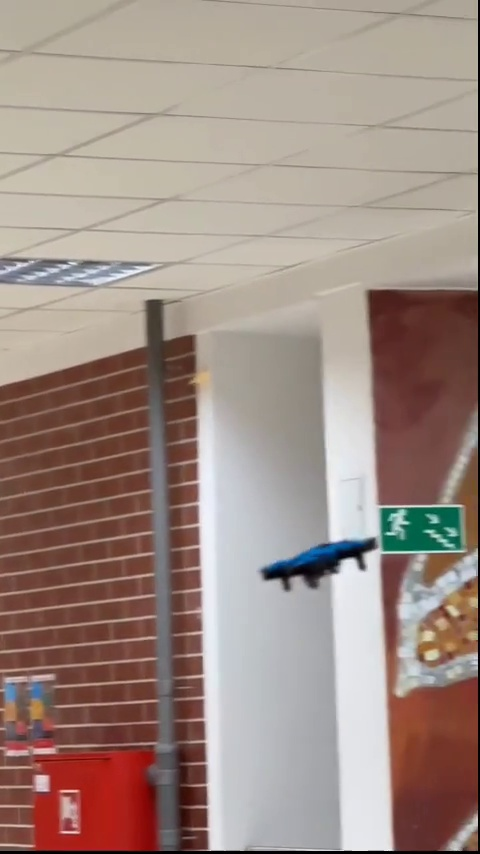drone: (265, 540, 377, 586)
